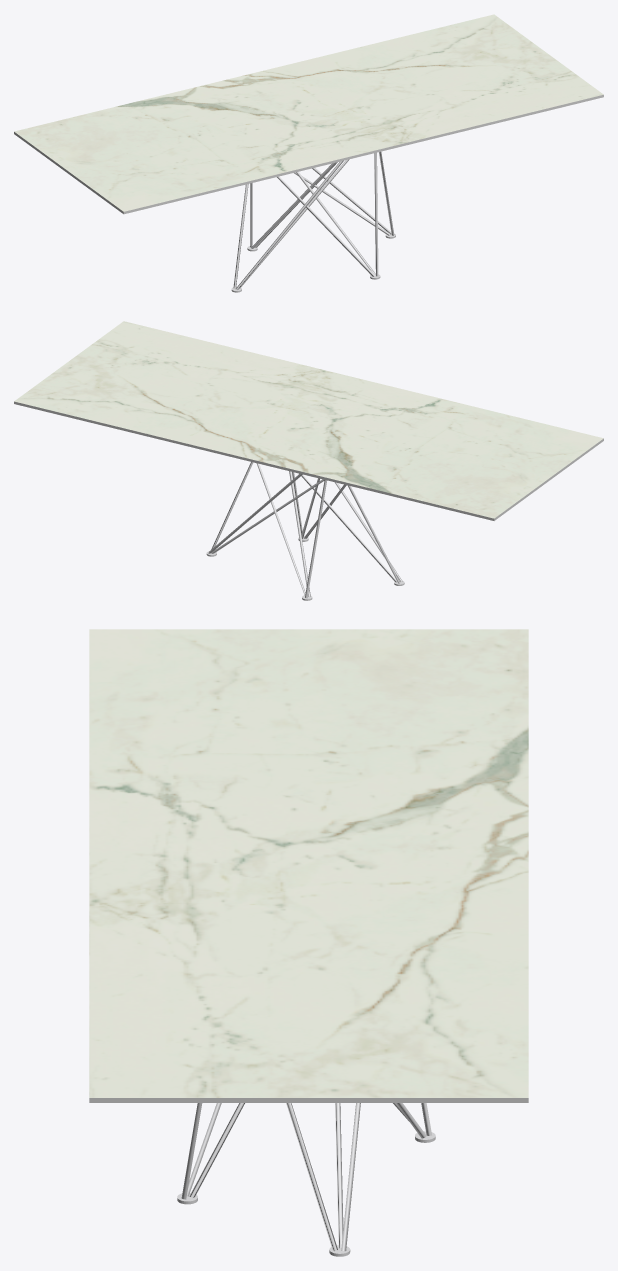
File: Stella12.glb
3 views of the same model, one above another, from view 1: azimuth 30°, elevation 25°; view 2: azimuth 150°, elevation 25°; view 3: azimuth 270°, elevation 25° (orthographic). The views are drawn at different scales.
Visible parts, largest first — view 1: Cube.001, Plane.018; view 2: Cube.001, Plane.018; view 3: Cube.001, Plane.018.
Boxes of the visible parts, box(x1,y1,x2,y2) form: Cube.001: box(14, 14, 603, 214); Plane.018: box(233, 151, 394, 289); Cube.001: box(14, 321, 603, 520); Plane.018: box(208, 462, 402, 598); Cube.001: box(89, 629, 528, 1102); Plane.018: box(181, 1103, 431, 1251).
Size of the model in its own units: 2.4 by 0.7201 by 0.95.
Materials: 4 (3 with a texture image).
